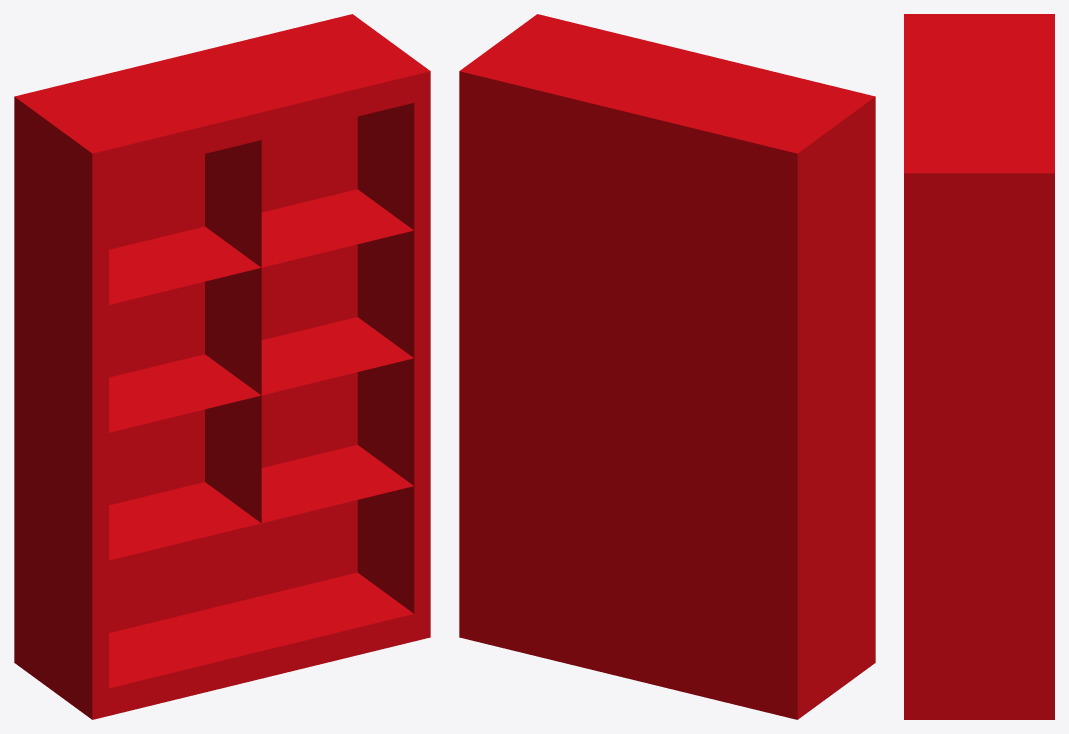
File: shelf.fbx
The picture shows the model from 3 angles, left to right: view 1: azimuth 30°, elevation 25°; view 2: azimuth 150°, elevation 25°; view 3: azimuth 270°, elevation 25°; orthographic projection. The views are drawn at different scales.
Visible parts, largest first — view 1: Mesh; view 2: Mesh; view 3: Mesh.
Part boxes in pixels (bbox=[...]): Mesh: bbox=[14, 14, 430, 719]; Mesh: bbox=[459, 14, 875, 719]; Mesh: bbox=[904, 14, 1054, 719].
Size of the model in its own units: 20 by 32 by 8.
